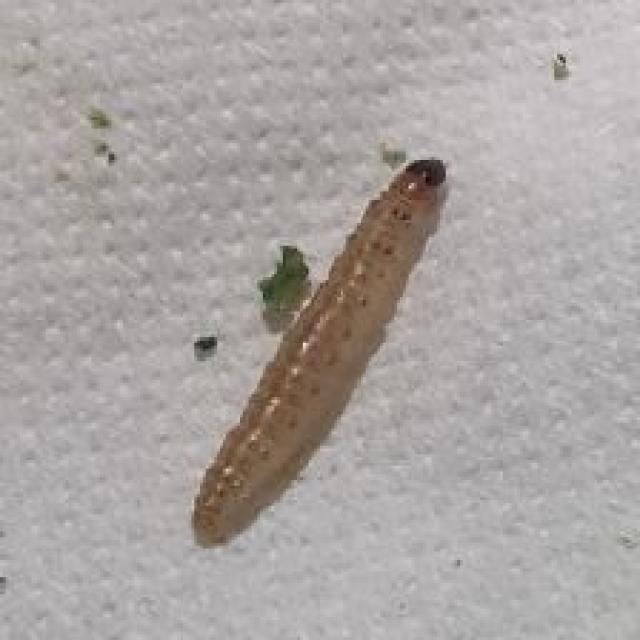white mucus: (172, 136, 474, 549)
